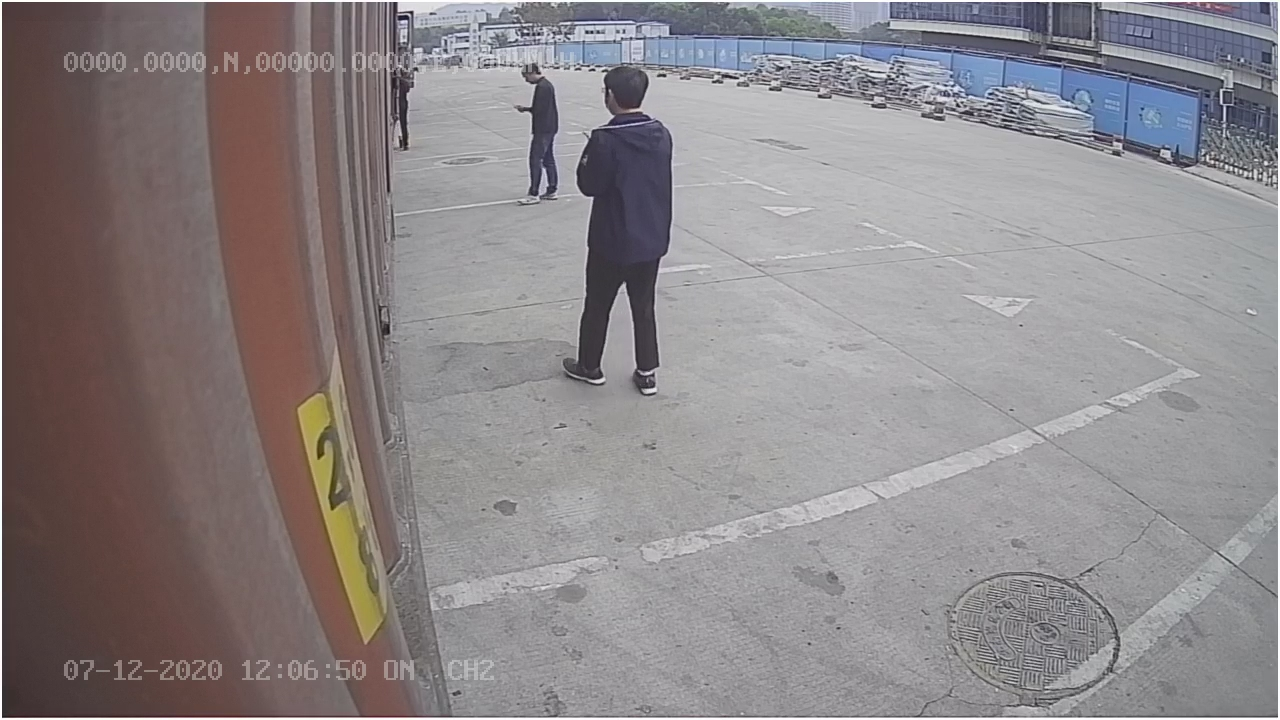person: (564, 66, 675, 389)
